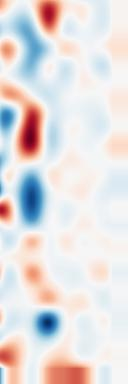filament: (13, 99, 52, 170), (28, 0, 69, 40)
